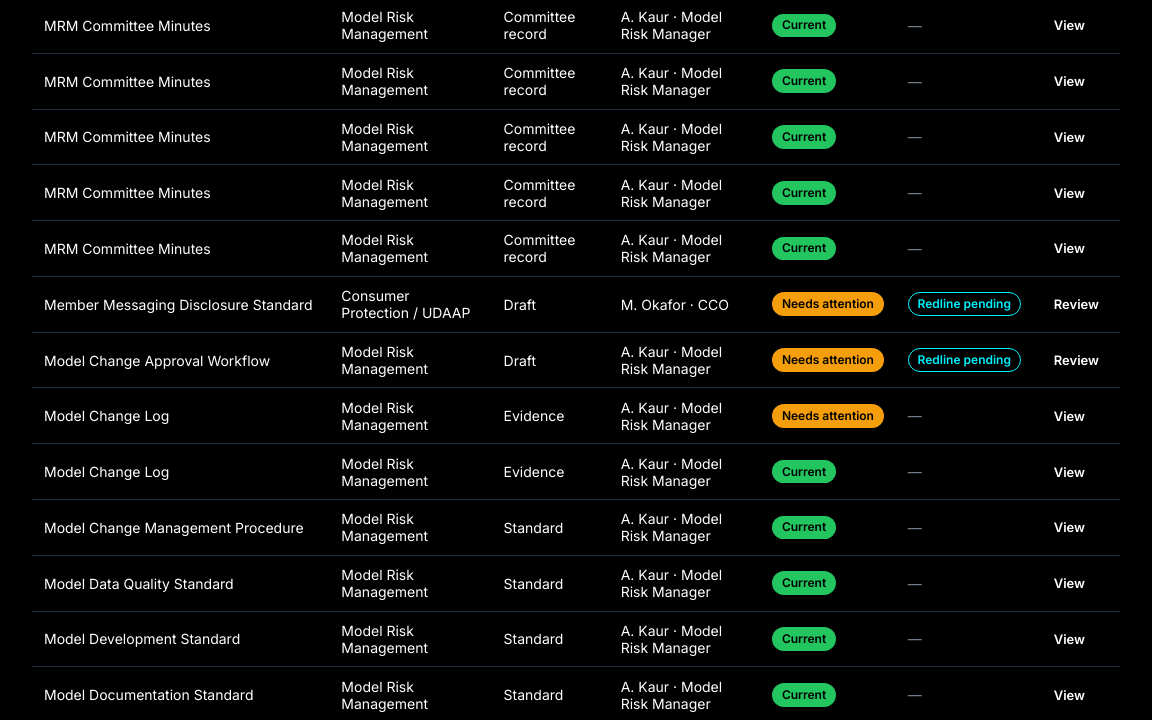
Test: B-dead-interactions-07 · OnSideDocuments doc drawer "Obligations evidenced" is un-flattened › a document evidencing an obligation offers a real action Button to that obligation's drawer
(page scrolled)
expect the row that starts with "Model Change Approval Workflow" is shown: met, box [32,332,1120,388]
Click the button "Review" in the row of "Model Change Approval Workflow" at (1076, 360), box [1045,347,1108,373]
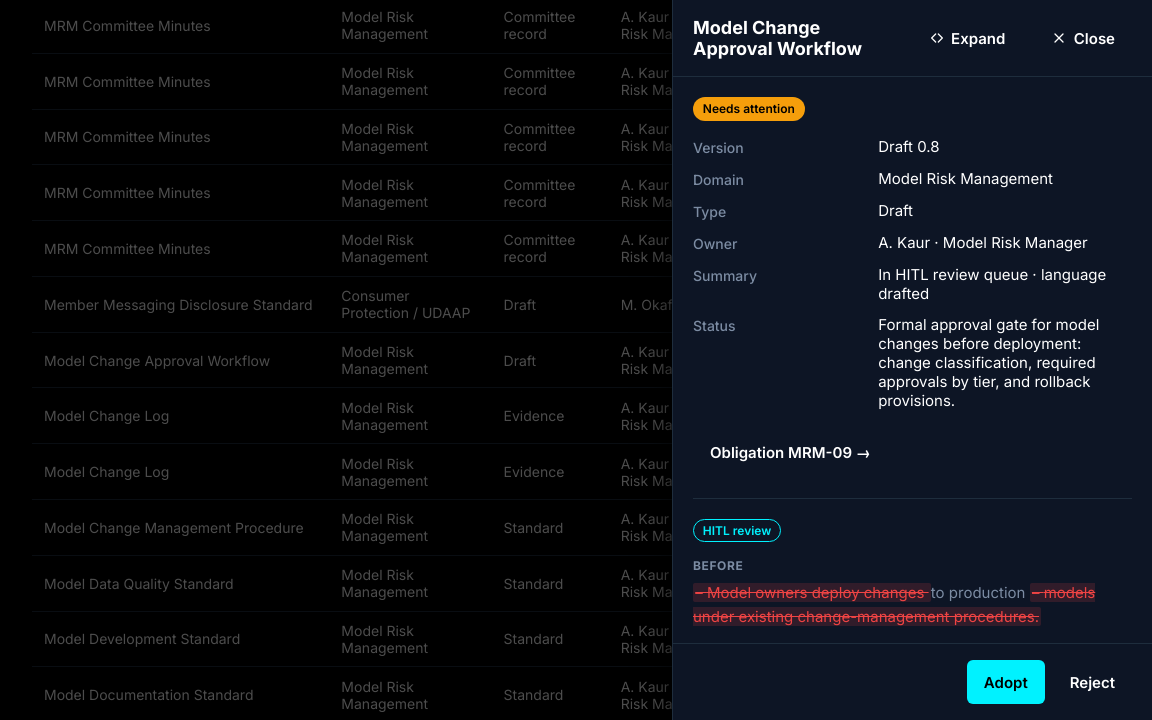
Click the button "Obligation MRM-09 →" at (790, 452), box [693,430,888,474]
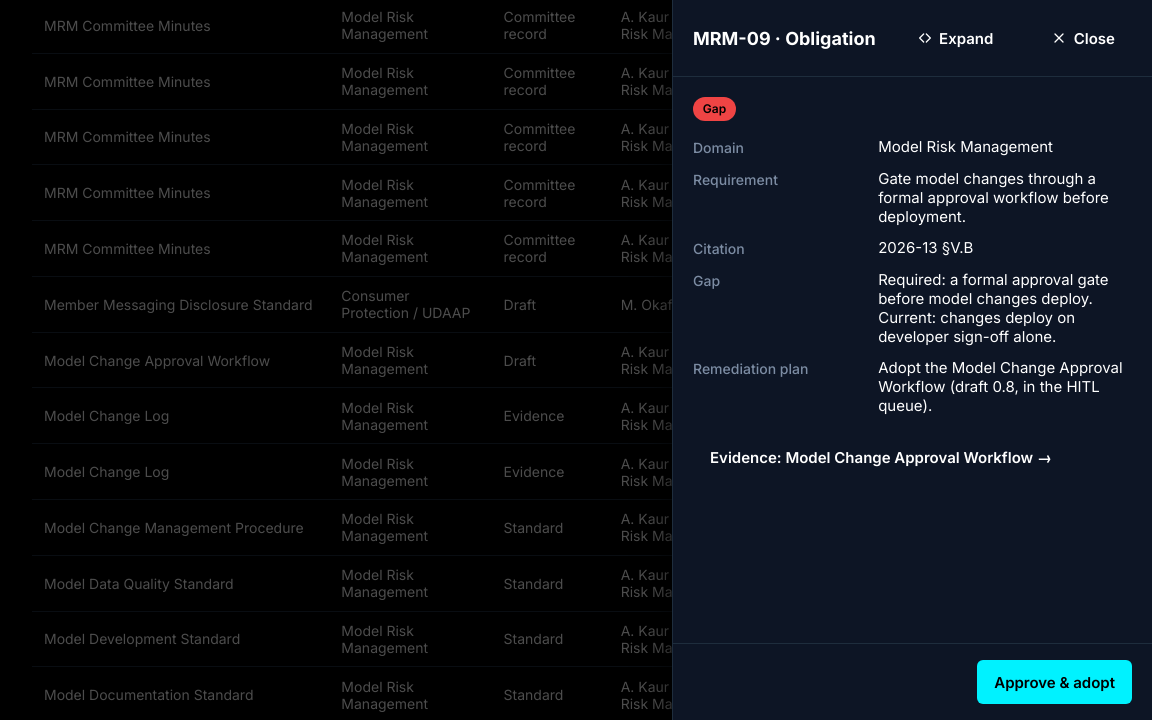
expect the dialog "MRM-09 · Obligation" is shown: met, box [672,0,1151,719]
